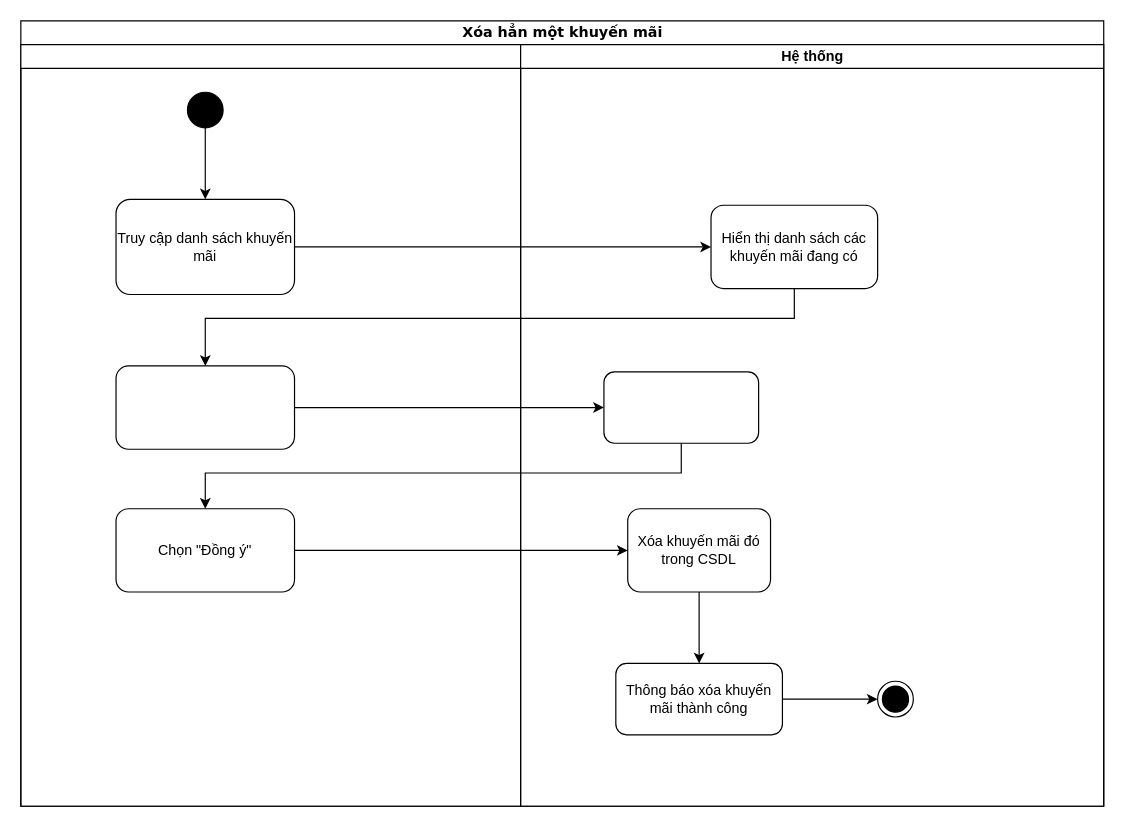
Image size: 1125x827. Some labels were removed from this diagram. Each missing label, with the box of its shape:
Chọn khuyến mãi cần xóa: (115, 365, 295, 449)
Hiển thị thông báo xác nhận xóa khuyến mãi: (603, 371, 759, 443)
Quản trị viên: (20, 43, 521, 806)
